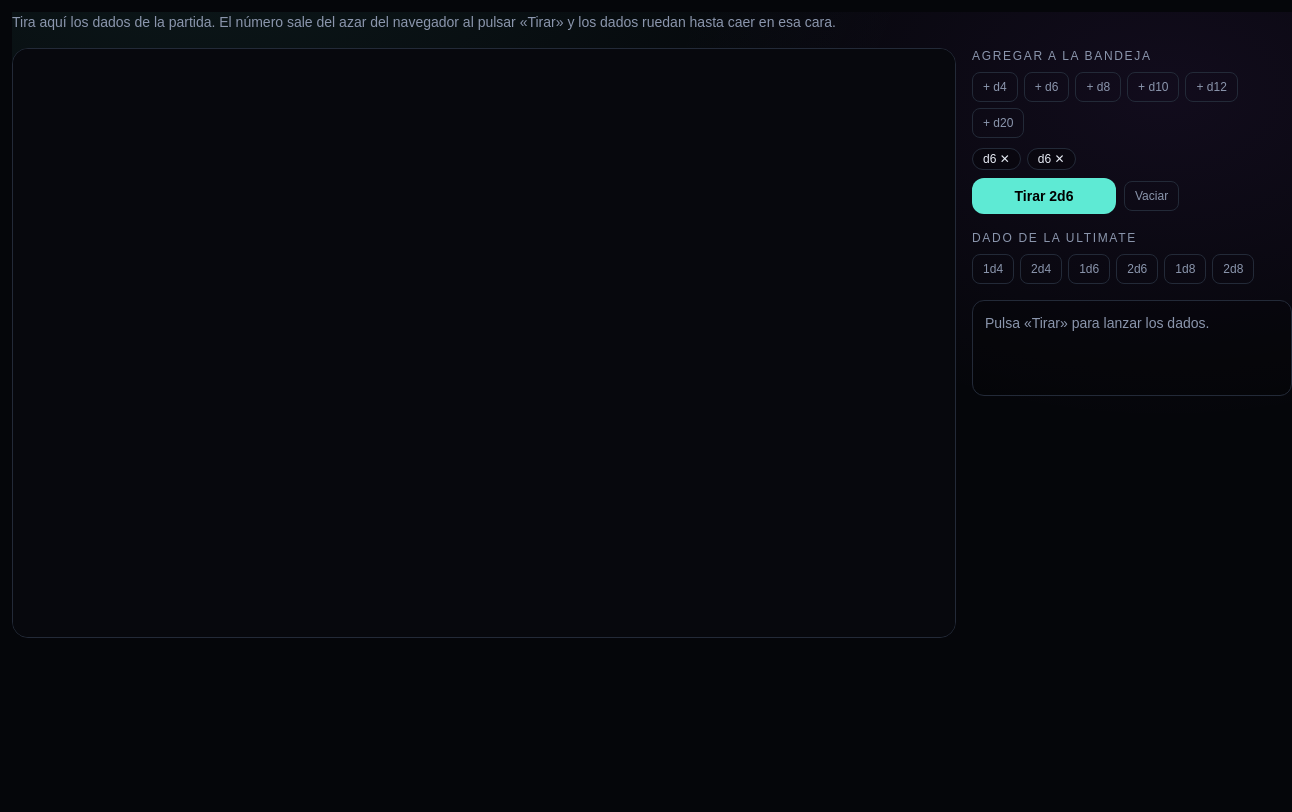
DadosPanel › quitar o agregar un dado descarta la tirada anterior
Click the button "Tirar 2d6": [1044, 196] box [972,178,1116,214]
Wait 2350 ms
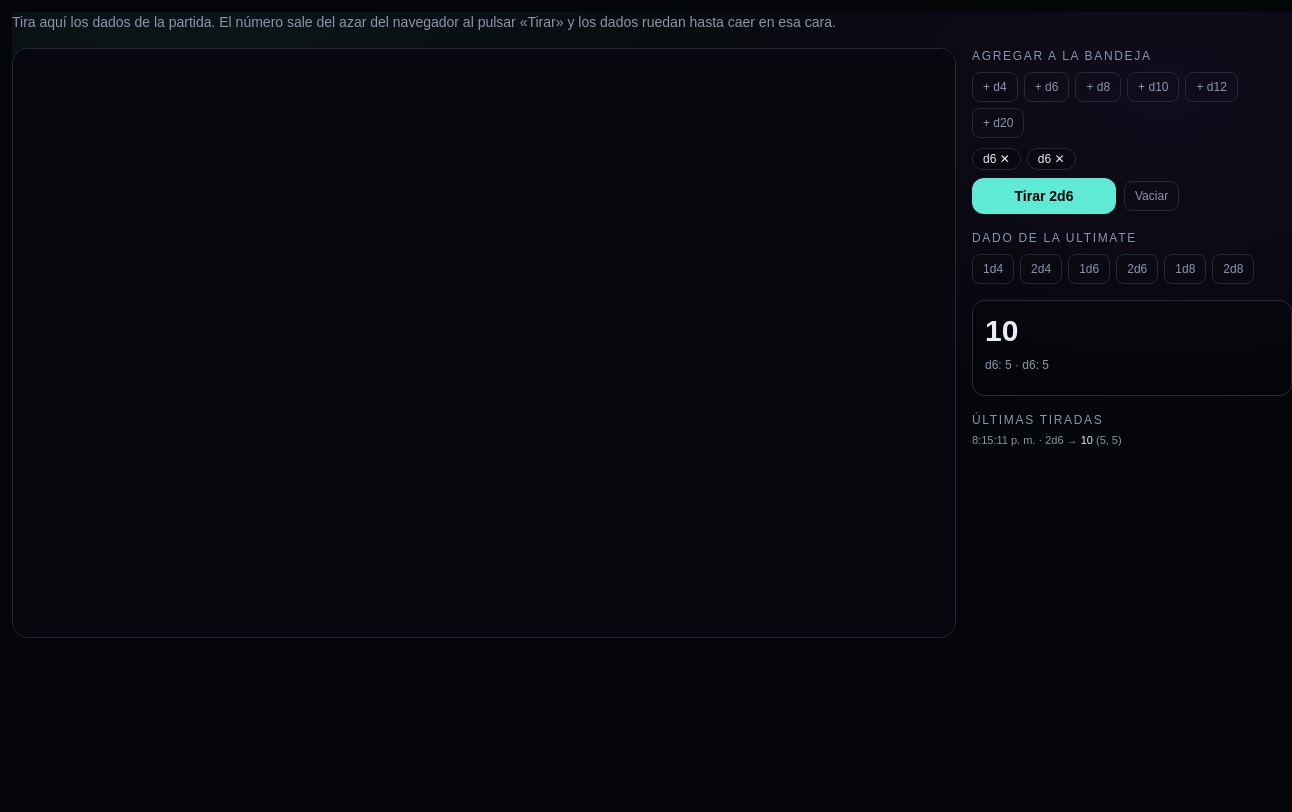
Now the text with test id "dados-total" is shown, box [985,314,1018,347]
Click the button named "Quitar d6": [996, 159] box [972,148,1021,170]
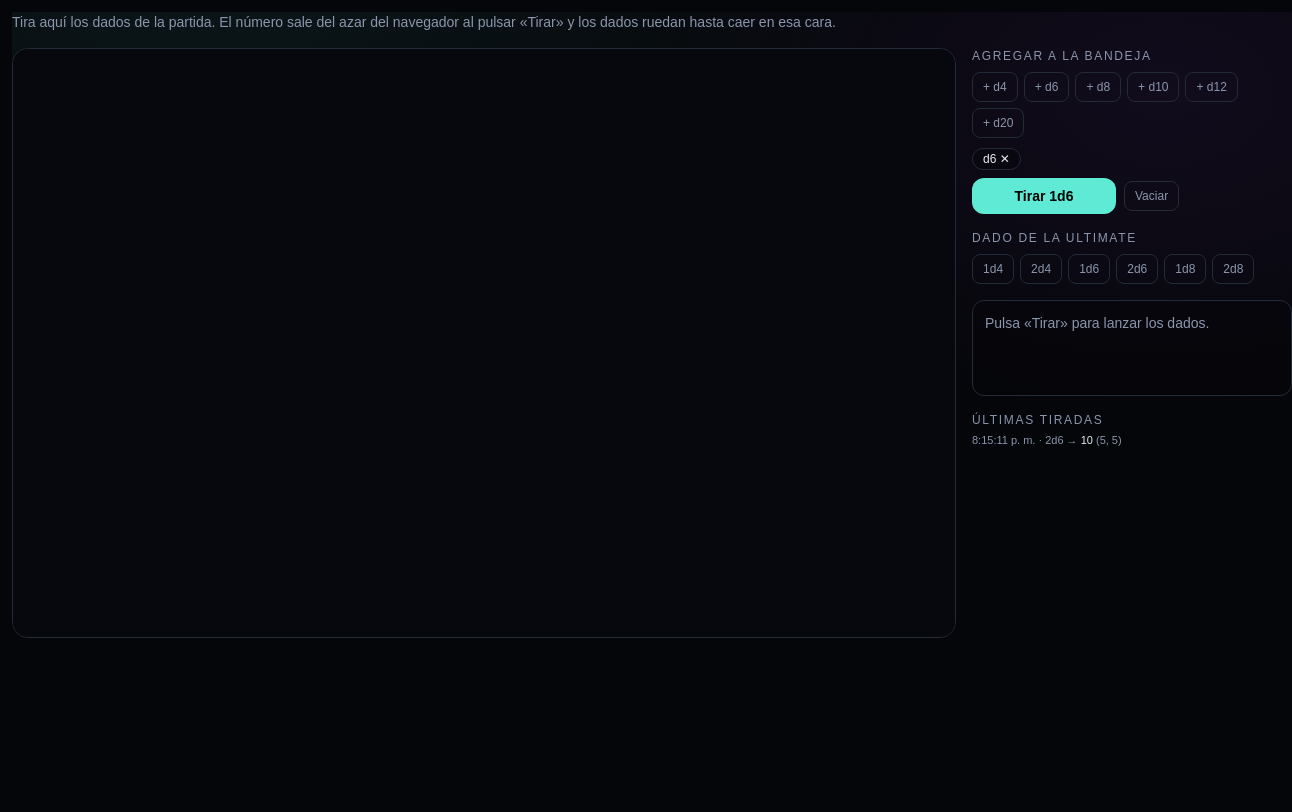
Expected: the button "Tirar 1d6" is enabled, [972,178,1116,214]
Now the text with test id "dados-total" is gone
